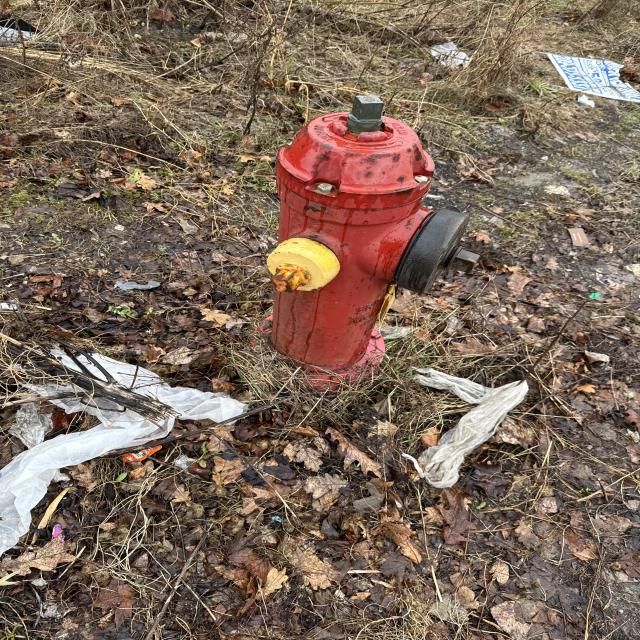Fire hydrant: (248, 94, 480, 390)
